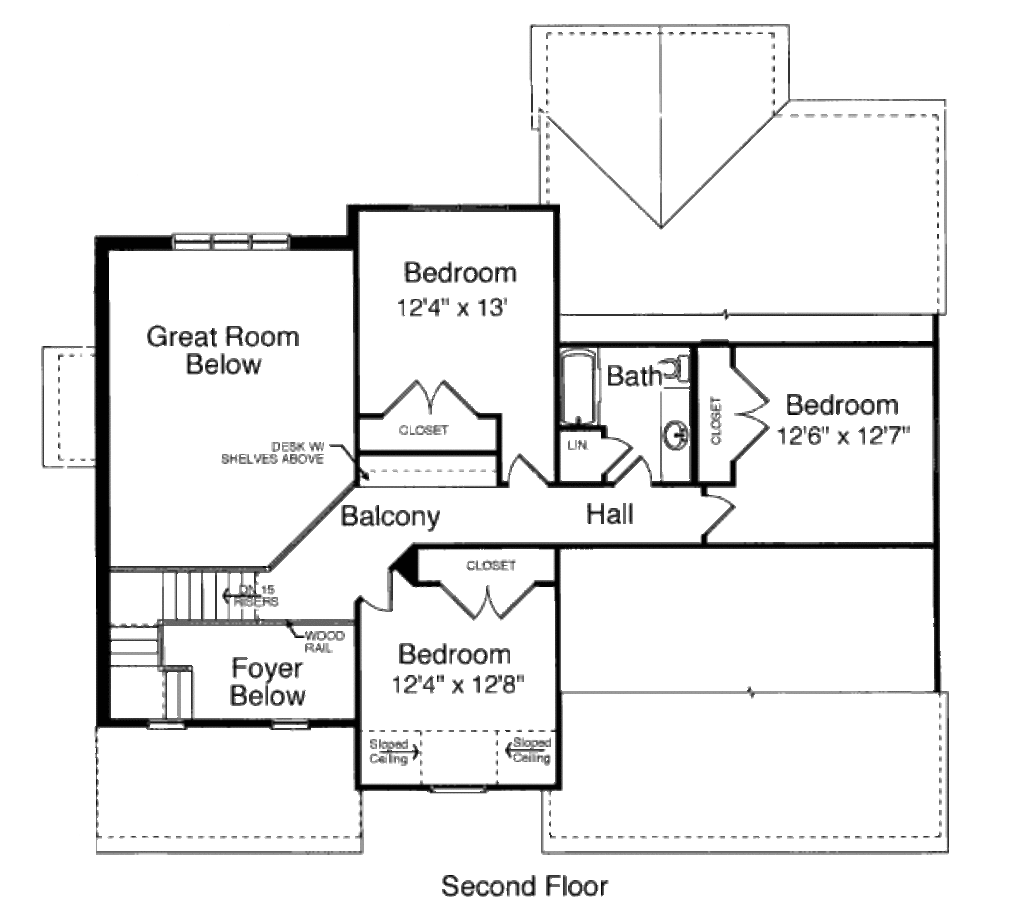door: (382, 378, 483, 427), (729, 361, 770, 464), (438, 574, 535, 617), (354, 569, 397, 618), (506, 454, 555, 497), (700, 483, 732, 536), (599, 435, 632, 475)
large_sink: (654, 353, 691, 380)
small_sink: (659, 386, 699, 487)
stairs: (102, 562, 259, 726)
tub: (557, 347, 599, 422)
windows: (160, 231, 295, 257), (426, 782, 486, 795)
